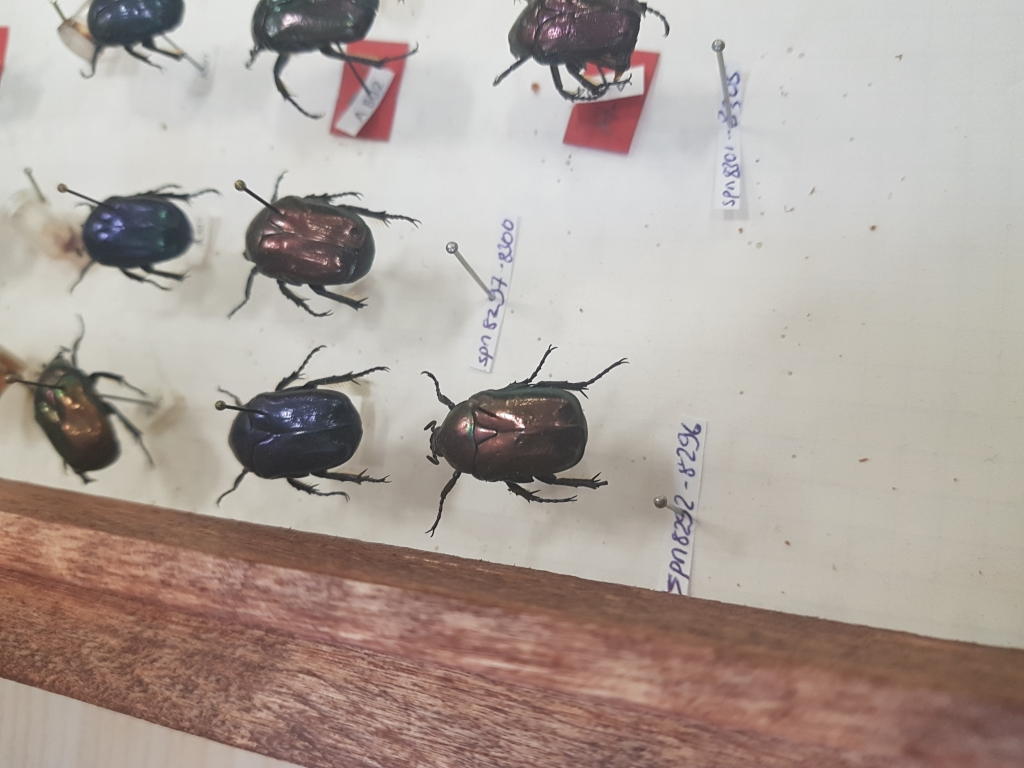Protaetia_besucheti: (408, 338, 639, 546), (193, 341, 407, 541), (225, 164, 433, 347)
